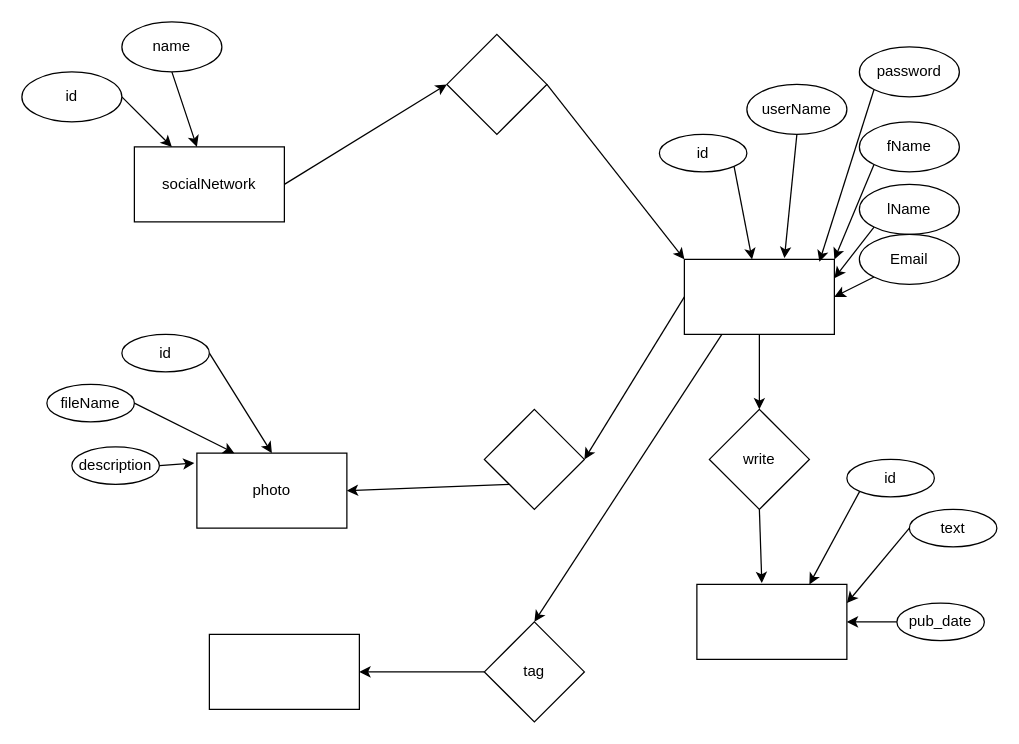
The diagram is 1019 pixels wide and 744 high, and some of its shapes have lost their labels. Each missing label, with the centre of its shape:
"appear" goes at (x=533, y=458).
"comment" goes at (x=771, y=621).
"frame" goes at (x=283, y=671).
"has" goes at (x=496, y=83).
"user" goes at (x=758, y=296).
